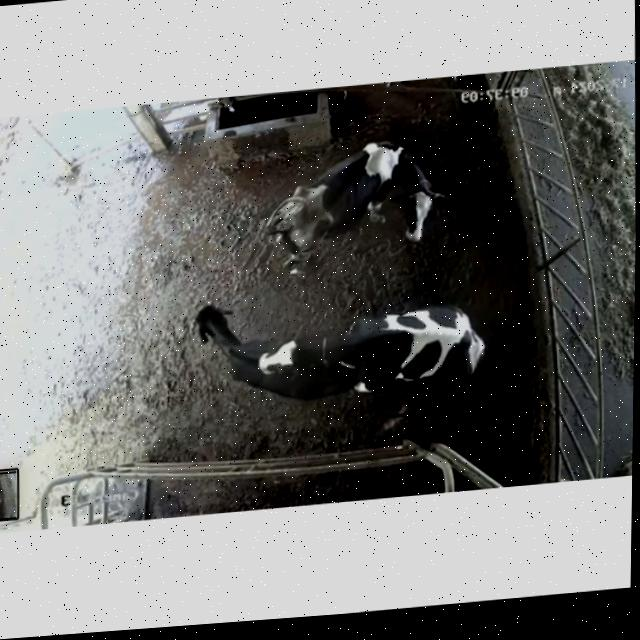ride: (253, 291, 492, 407)
stand: (254, 113, 462, 287), (172, 291, 331, 417)
